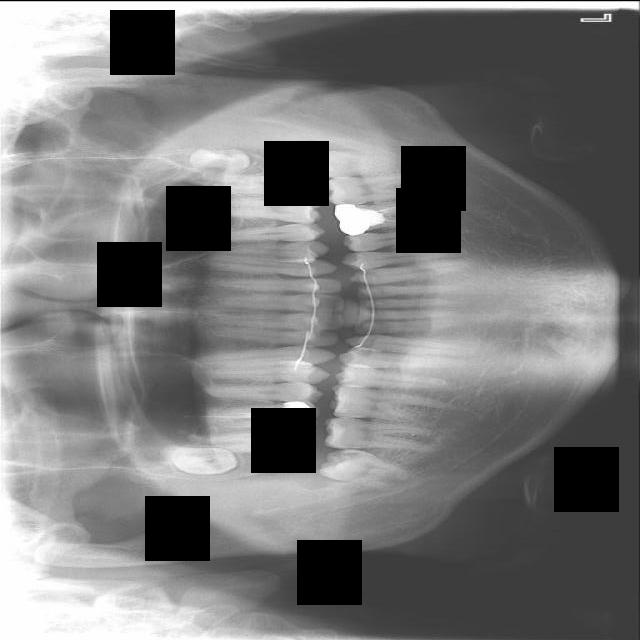3M ESPE Implant: (161, 443, 237, 476)
52: (325, 194, 376, 243), (278, 397, 322, 433), (289, 430, 314, 458)
73: (180, 401, 290, 434), (356, 197, 449, 231), (592, 36, 602, 42)
BioHorizons Implant: (211, 166, 318, 198)
BioLife Implant: (188, 145, 252, 184)
Biomet 3i Implant: (308, 150, 397, 178)
Blue Sky Bio Implant: (321, 172, 436, 206)
Caries: (188, 428, 315, 461)
Implant: (322, 415, 435, 455)
Keystone Dental Implant: (317, 440, 417, 498)
